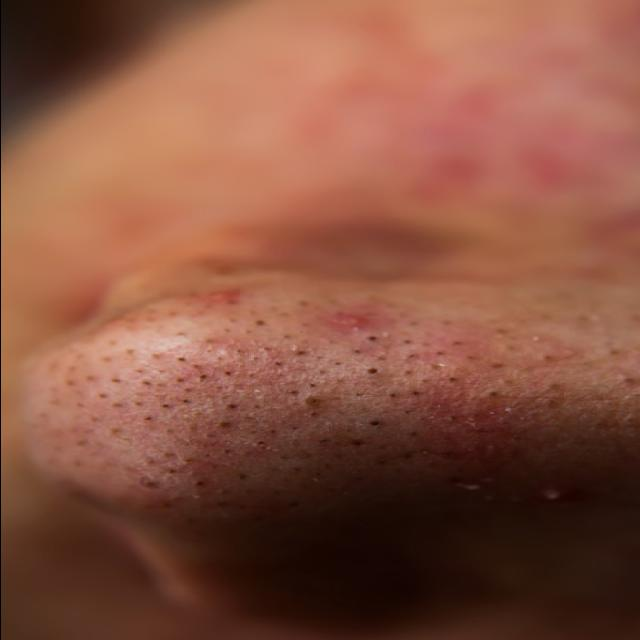blackhead: (48, 303, 640, 500)
